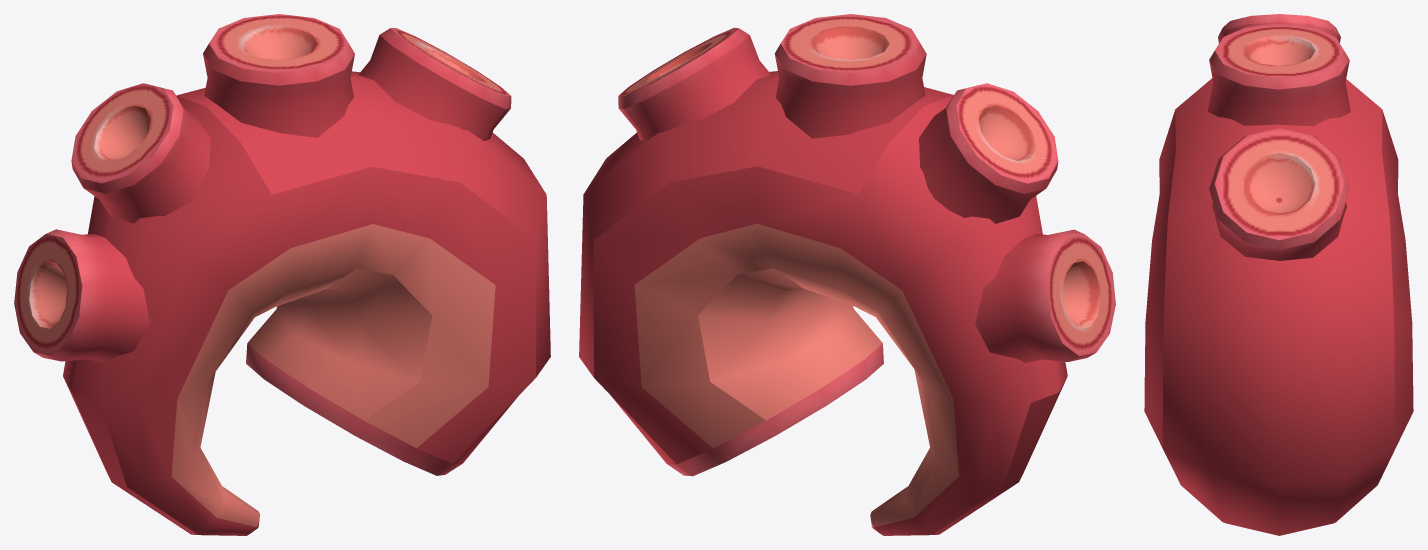
3 views of the same model, side by side, from view 1: azimuth 30°, elevation 25°; view 2: azimuth 150°, elevation 25°; view 3: azimuth 270°, elevation 25° (orthographic). The views are drawn at different scales.
Parts seen in each view (by area): view 1: Rocket01; view 2: Rocket01; view 3: Rocket01.
Boxes of the visible parts, box(x1,y1,x2,y2) form: Rocket01: box(14, 14, 550, 535); Rocket01: box(579, 14, 1115, 535); Rocket01: box(1144, 14, 1413, 535).
Bounding box in the file's own units: 0.538 × 0.2731 × 0.5007.
Materials: 1 (1 with a texture image).
